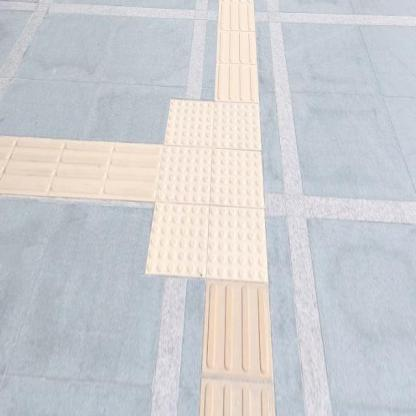podotacti: (131, 66, 294, 314), (197, 278, 279, 415), (0, 137, 155, 203), (213, 0, 259, 98)
